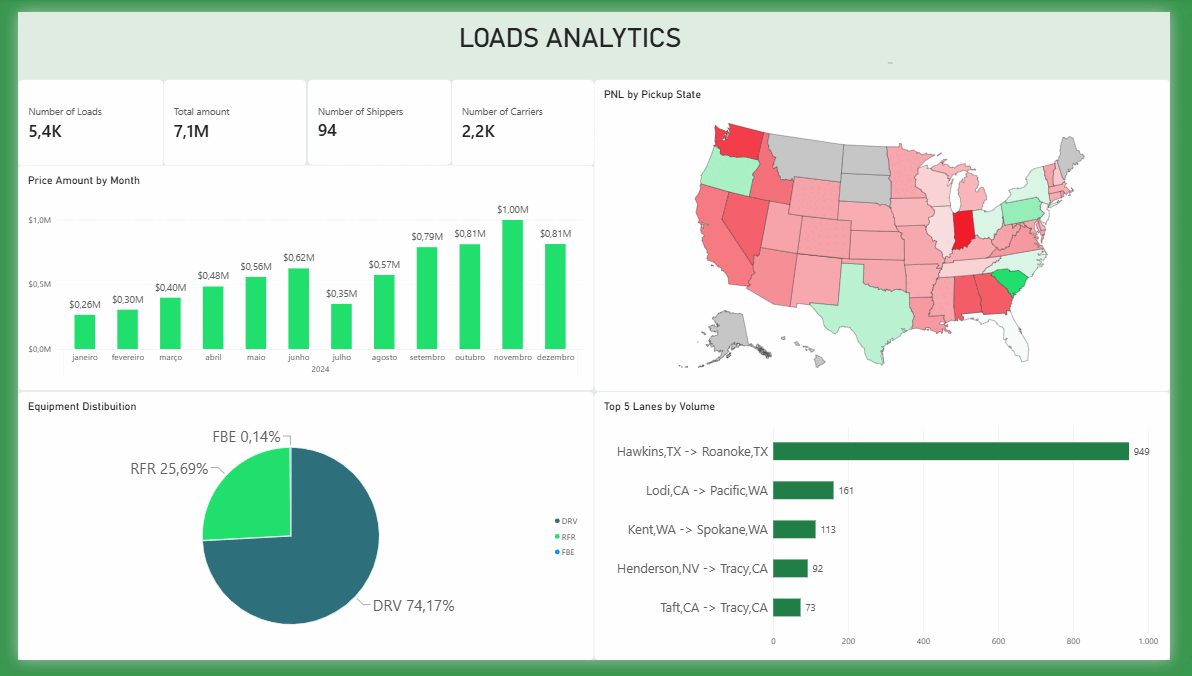

This screenshot's page, from the dashboard's own definition file:
{"tool":"powerbi","page":{"name":"Página 1","canvas":[1920,1080],"ordinal":0},"visuals":[{"type":"barChart","title":"Top 5 Lanes by Volume","fields":{"Category":["analytics dim_lane.lane_name"],"Y":["CountNonNull(analytics fact_loads.lane_id)"]},"box":[960,632,960,448],"z":0},{"type":"cardVisual","fields":{"Data":["CountNonNull(analytics fact_loads.loadsmart_id)"]},"box":[0,111.7,243.3,145],"z":1000},{"type":"cardVisual","fields":{"Data":["Count(analytics fact_loads.carrier_id)"]},"box":[721.7,111.7,238.3,145],"z":2000},{"type":"cardVisual","fields":{"Data":["Sum(analytics fact_loads.book_price)"]},"box":[243.3,111.7,238.3,145],"z":3000},{"type":"cardVisual","fields":{"Data":["Count(analytics fact_loads.shipper_id)"]},"box":[481.7,111.7,240,143.3],"z":4000},{"type":"textbox","title":"LOADS ANALYTICS","box":[382.5,17.5,1075,68.3],"z":5000},{"type":"lineClusteredColumnComboChart","title":"Price Amount by Month","fields":{"Category":["analytics fact_loads.delivery_date.Variation.Hierarquia de datas.Ano","analytics fact_loads.delivery_date.Variation.Hierarquia de datas.Mês"],"Y":["Sum(analytics fact_loads.book_price)"]},"box":[0,256,960,376],"z":6000},{"type":"pieChart","title":"Equipment Distibuition","fields":{"Category":["analytics fact_loads.equipment_type"],"Y":["Sum(analytics fact_loads.book_price)"]},"box":[0,632,960,448],"z":7000},{"type":"shapeMap","title":"PNL by Pickup State","fields":{"Category":["analytics dim_location.state"],"Value":["analytics fact_loads.PNL by Pickup State"]},"box":[960,112,960,520],"z":8000}]}

Visuals, with their boxes in screenshot pixels (x1, y1, x2, y2), scaled from the page's 1920x1080 canvas onto the 1192x676 screenshot:
"Top 5 Lanes by Volume" barChart: 596/396/1191/675
cardVisual - CountNonNull(analytics fact_loads.loadsmart_id): 0/70/151/161
cardVisual - Count(analytics fact_loads.carrier_id): 448/70/596/161
cardVisual - Sum(analytics fact_loads.book_price): 151/70/299/161
cardVisual - Count(analytics fact_loads.shipper_id): 299/70/448/160
"LOADS ANALYTICS" textbox: 237/11/905/54
"Price Amount by Month" lineClusteredColumnComboChart: 0/160/596/396
"Equipment Distibuition" pieChart: 0/396/596/675
"PNL by Pickup State" shapeMap: 596/70/1191/396
